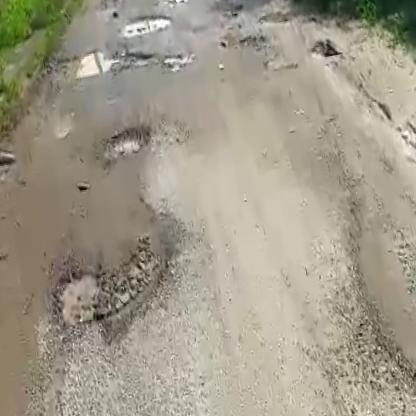pothole: (43, 221, 195, 346), (74, 39, 164, 77), (98, 118, 159, 163), (115, 7, 175, 37), (159, 49, 192, 71)
